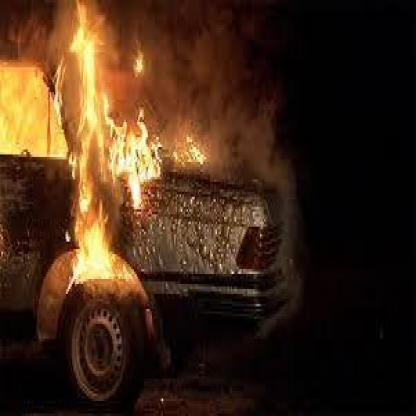fire: (0, 0, 205, 294)
